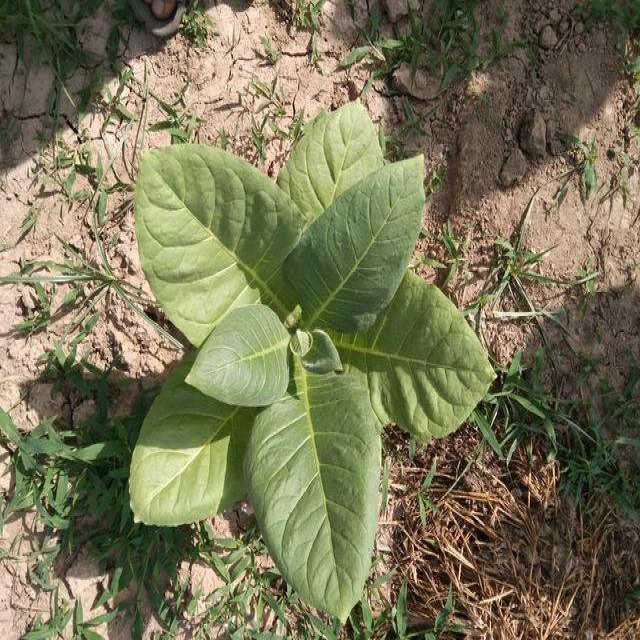crop: (126, 106, 505, 617)
